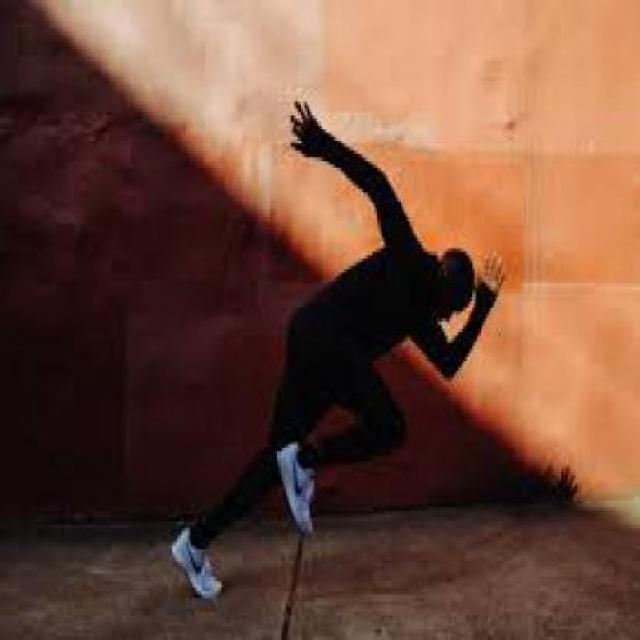Nike: (286, 448, 300, 497), (182, 535, 201, 571)
